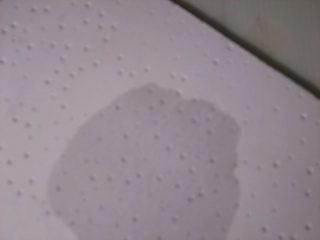Water_detected: (69, 100, 203, 229)
